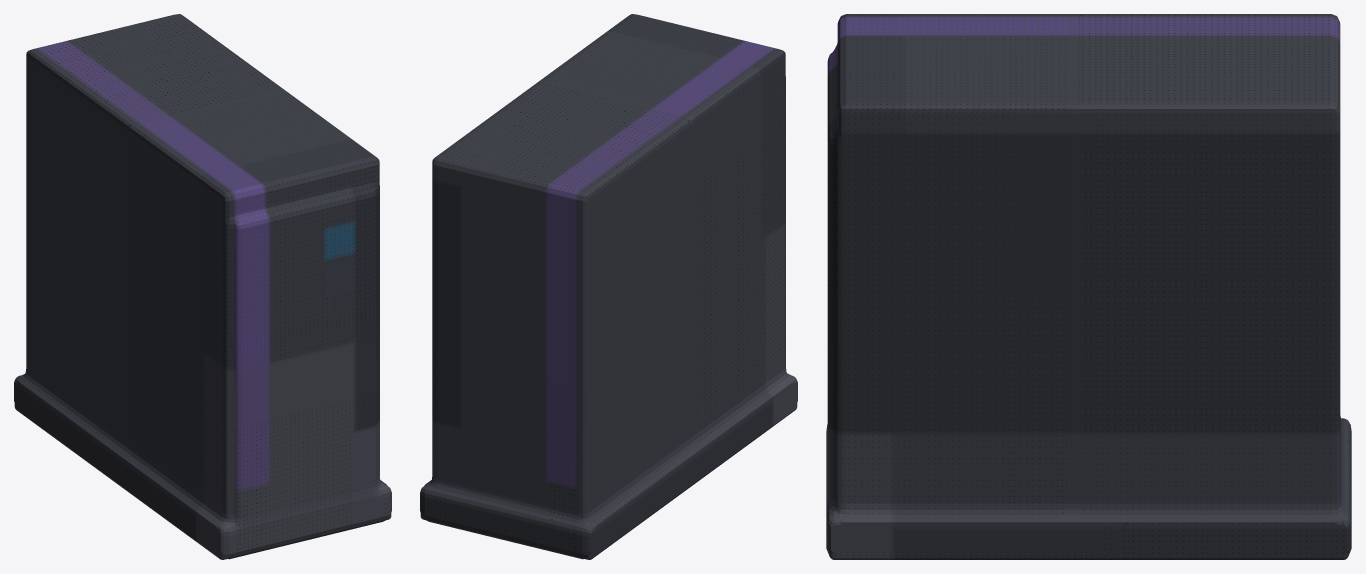
File: compute-pc-tower.glb
The picture shows the model from 3 angles, left to right: view 1: azimuth 30°, elevation 25°; view 2: azimuth 150°, elevation 25°; view 3: azimuth 270°, elevation 25°; orthographic projection. The views are drawn at different scales.
Visible parts, largest first — view 1: mesh_compute-pc-tower; view 2: mesh_compute-pc-tower; view 3: mesh_compute-pc-tower.
Part boxes in pixels (left/top/right/bottom): mesh_compute-pc-tower: left=14, top=14, right=391, bottom=559; mesh_compute-pc-tower: left=420, top=14, right=797, bottom=559; mesh_compute-pc-tower: left=826, top=14, right=1351, bottom=559.
Size of the model in its own units: 0.22 by 0.445 by 0.47.
Materials: 1 (1 with a texture image).
